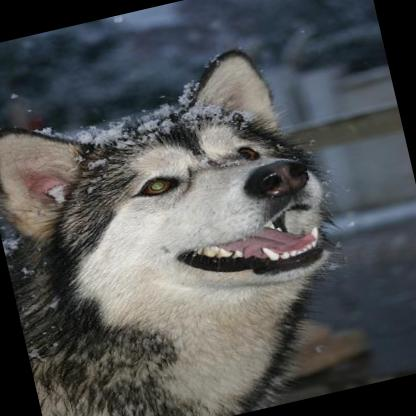malamute: (0, 35, 368, 416)
